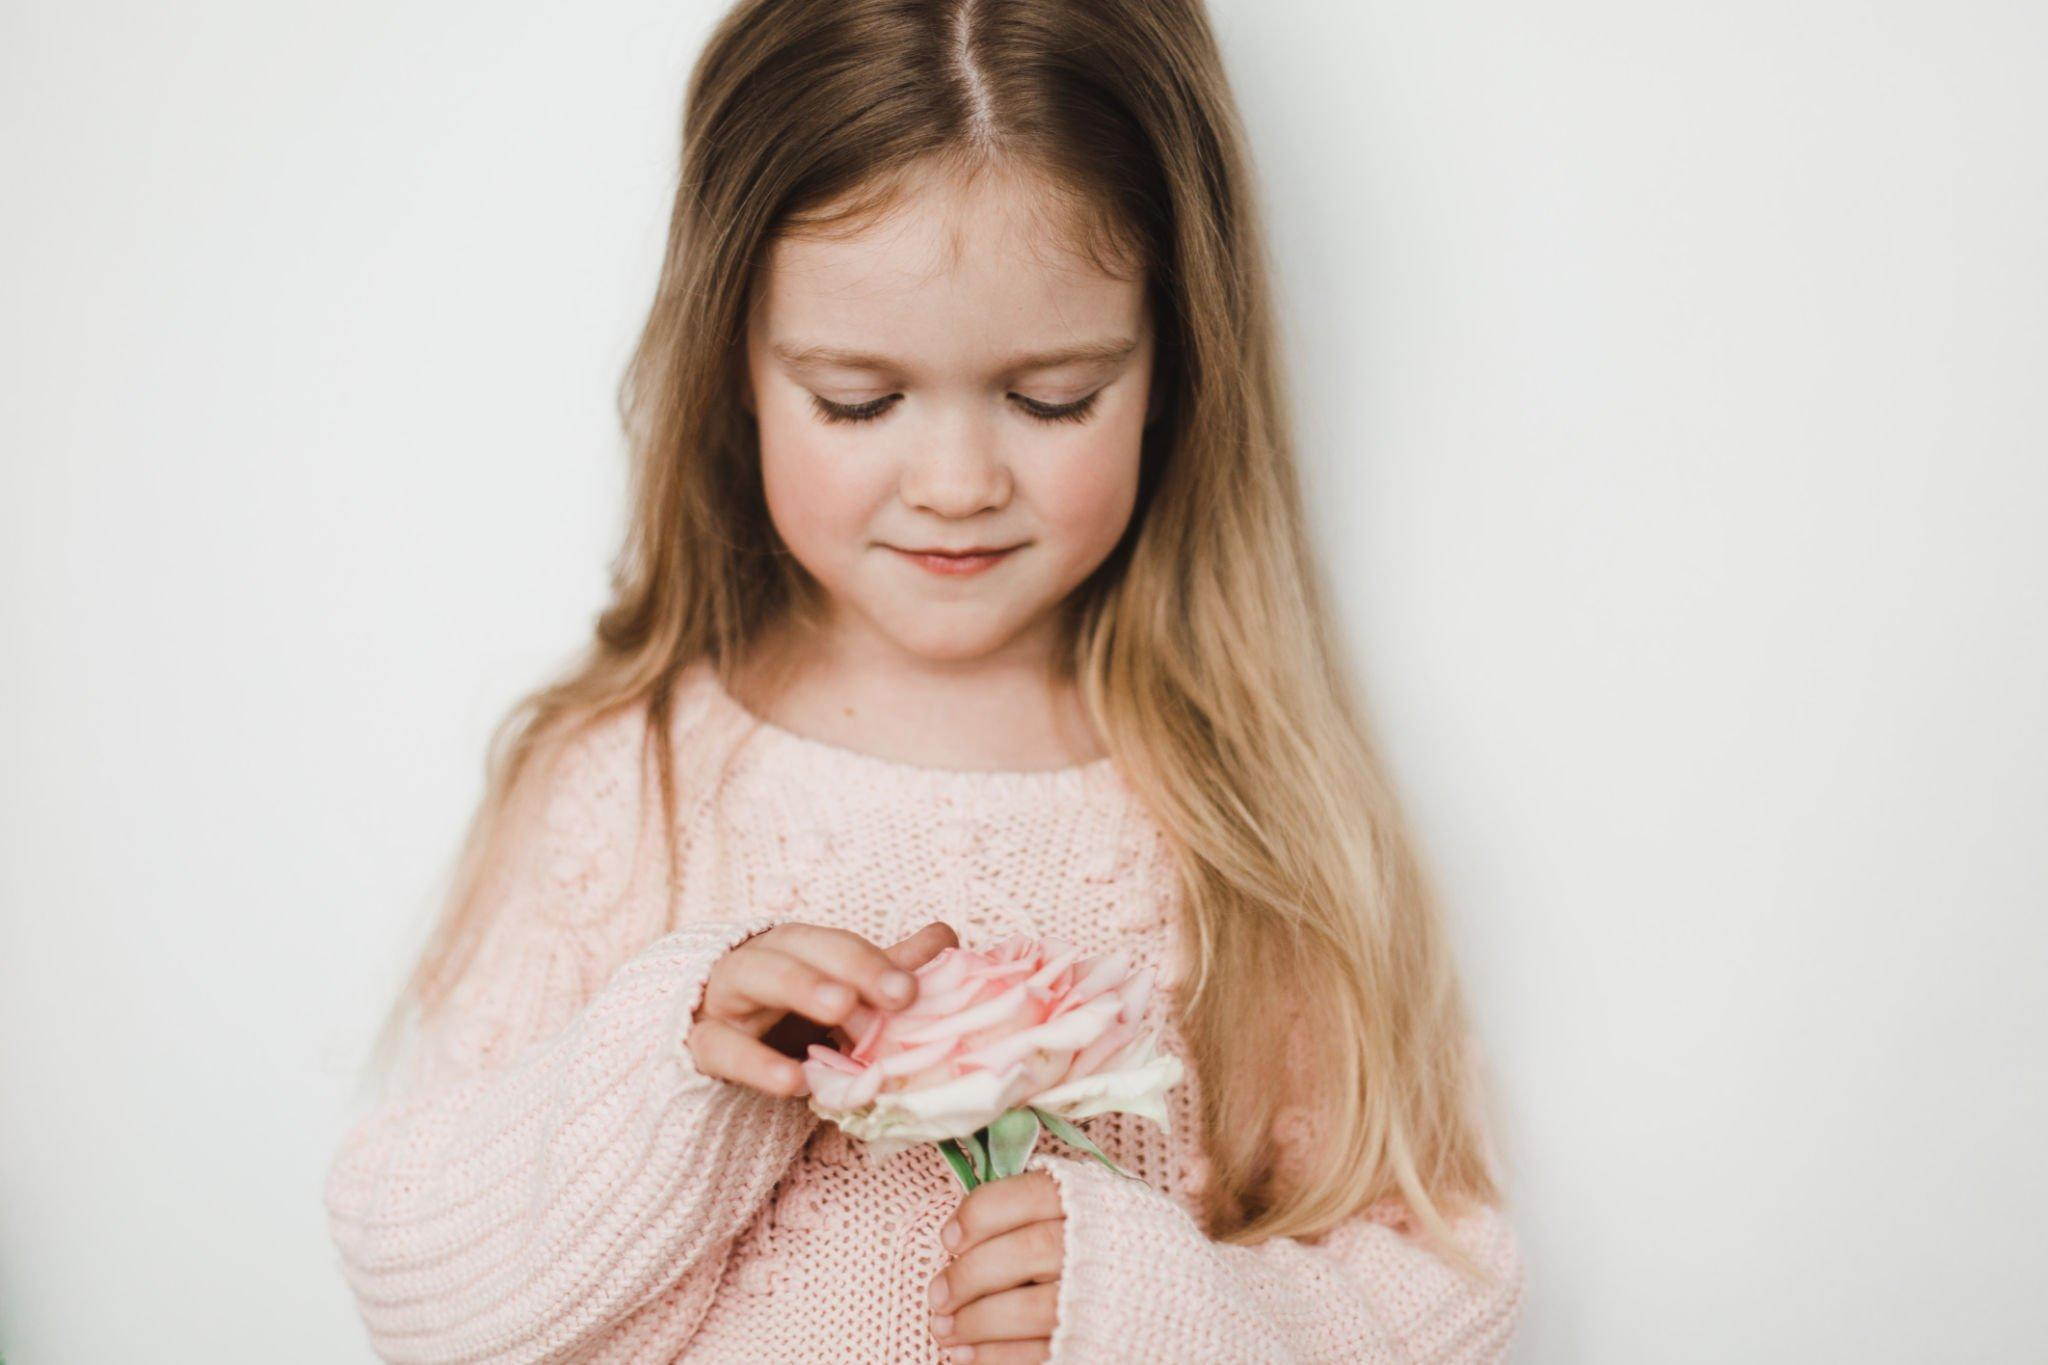Healthy: (737, 122, 1176, 679)
